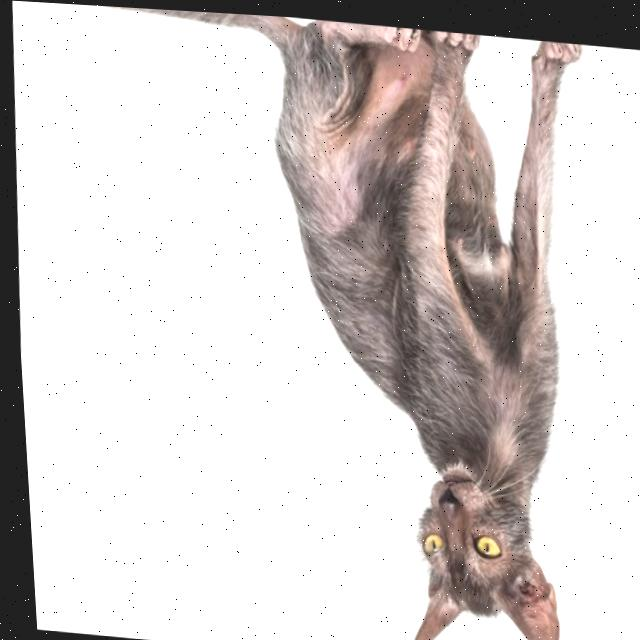Lykoi: (0, 0, 614, 640)
